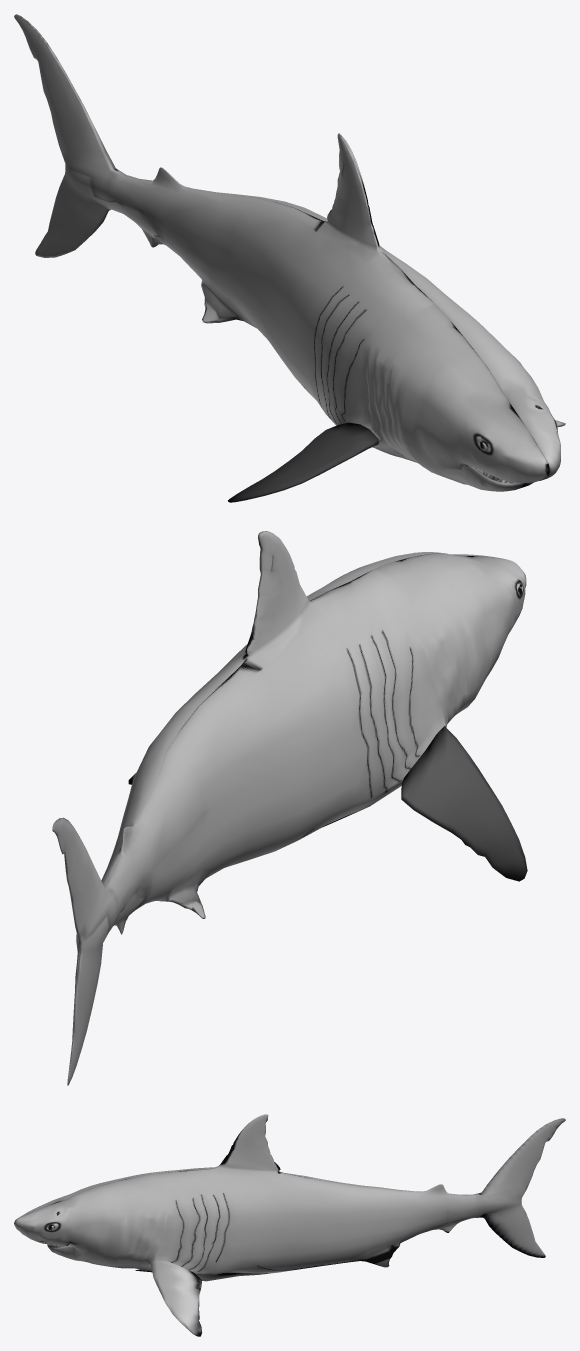
File: Shark.FBX
3 renders of one model, top to bottom at view 1: azimuth 30°, elevation 25°; view 2: azimuth 150°, elevation 25°; view 3: azimuth 270°, elevation 25°, orthographic. The views are drawn at different scales.
Visible parts, largest first — view 1: great_white_shark_exp19; view 2: great_white_shark_exp19; view 3: great_white_shark_exp19.
Boxes of the visible parts, x1,y1,x2,y2 form: great_white_shark_exp19: (14, 14, 565, 502); great_white_shark_exp19: (52, 531, 527, 1085); great_white_shark_exp19: (14, 1114, 565, 1336).
Bounding box in the file's own units: 207 × 173 × 497.
